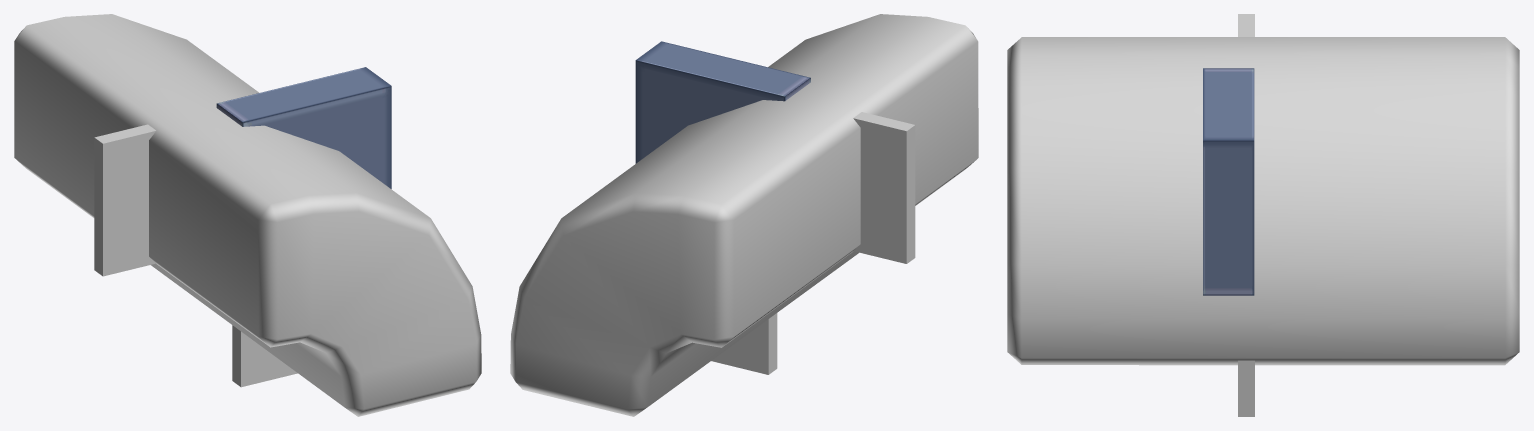
Rendered from corner_base.glb.
The picture shows the model from 3 angles, left to right: view 1: azimuth 30°, elevation 25°; view 2: azimuth 150°, elevation 25°; view 3: azimuth 270°, elevation 25°; orthographic projection.
Parts seen in each view (by area): view 1: model (1), Cell (×2), Cell (1); view 2: model (1), Cell (×2), Cell (1); view 3: model (1), Cell, Cell (1).
Boxes of the visible parts, x1=… form: model (1): x1=14, y1=14, x2=481, y2=416; Cell (×2): x1=94, y1=67, x2=391, y2=276; Cell (1): x1=232, y1=325, x2=297, y2=387; model (1): x1=510, y1=14, x2=978, y2=416; Cell (×2): x1=635, y1=41, x2=915, y2=263; Cell (1): x1=711, y1=313, x2=777, y2=374; model (1): x1=1007, y1=37, x2=1519, y2=365; Cell: x1=1203, y1=68, x2=1254, y2=295; Cell (1): x1=1238, y1=360, x2=1254, y2=416.
Size of the model in its own units: 1.82 by 1.81 by 3.
Materials: 2 (1 with a texture image).
